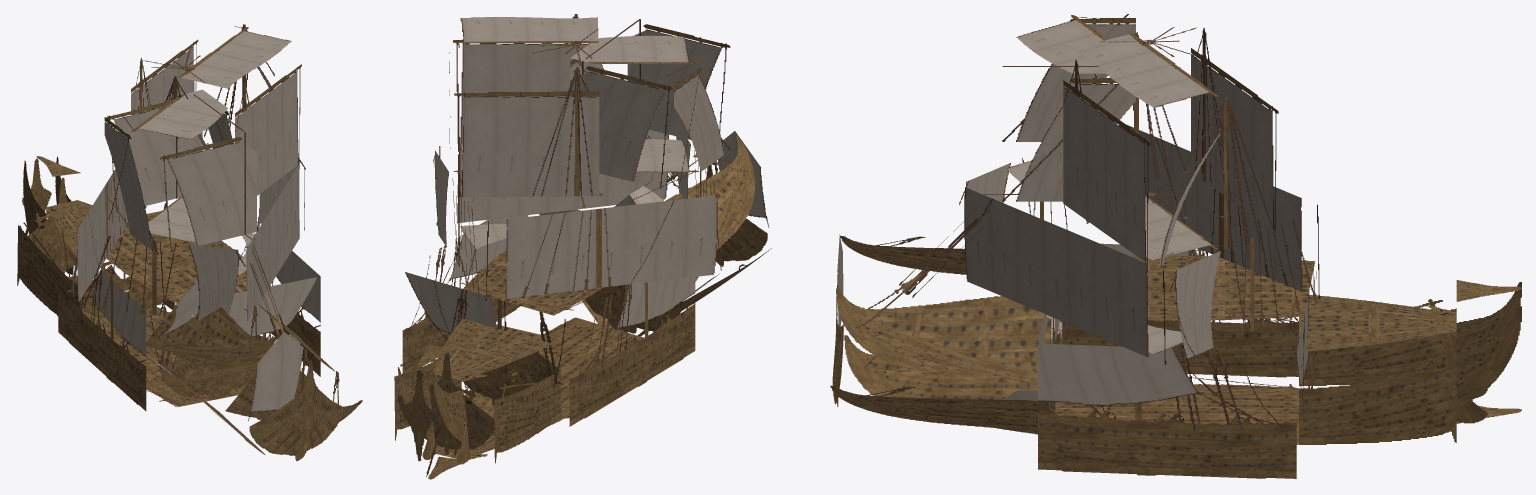
The model's file is boat-1024.glb.
The picture shows the model from 3 angles, left to right: view 1: azimuth 30°, elevation 25°; view 2: azimuth 150°, elevation 25°; view 3: azimuth 270°, elevation 25°; orthographic projection. The views are drawn at different scales.
Visible parts, largest first — view 1: box_impostor; view 2: box_impostor; view 3: box_impostor.
Boxes of the visible parts, <box> form: box_impostor: <box>17,24,362,461</box>; box_impostor: <box>394,14,771,479</box>; box_impostor: <box>830,14,1521,478</box>.
Bounding box in the file's own units: 1.33 × 1.6 × 2.53.
1 material, 1 textured.
